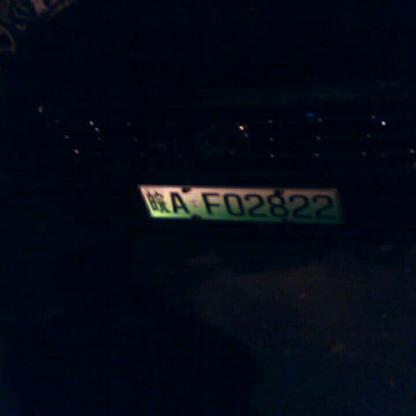lp: (137, 184, 342, 224)
